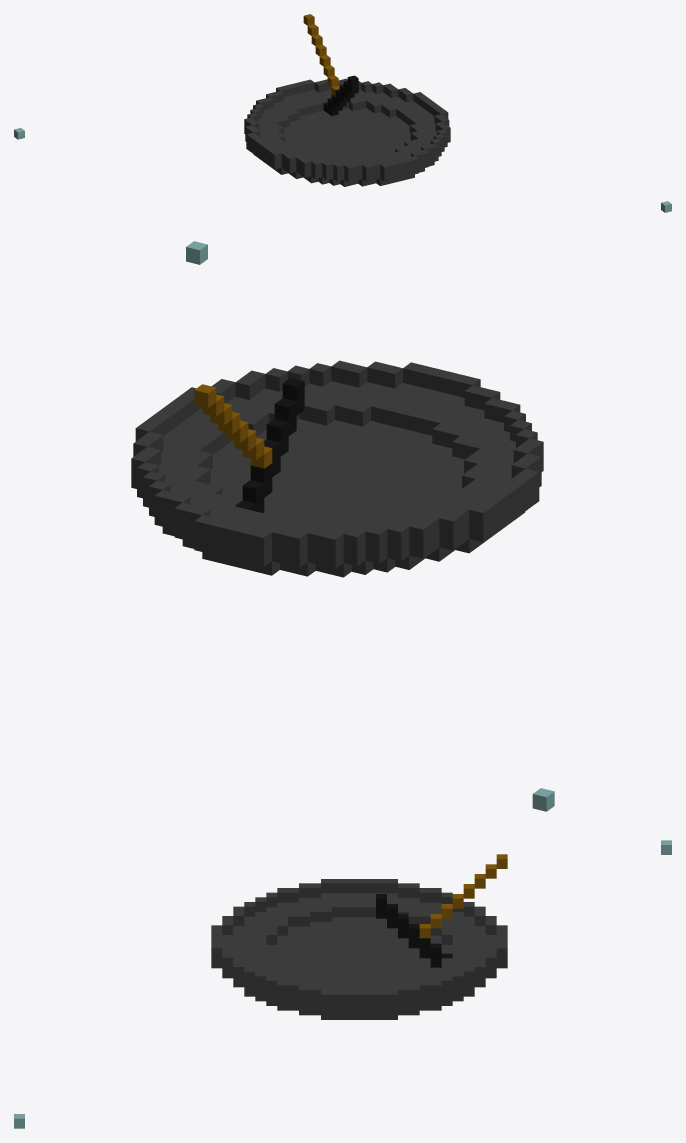
File: quarry.glb
The picture shows the model from 3 angles, top to bottom: view 1: azimuth 30°, elevation 25°; view 2: azimuth 150°, elevation 25°; view 3: azimuth 270°, elevation 25°; orthographic projection. The views are drawn at different scales.
Visible parts, largest first — view 1: quarry; view 2: quarry; view 3: quarry.
Part boxes in pixels (x1,y1,x2,y2): quarry: (14,14,671,212); quarry: (131,241,554,811); quarry: (14,840,671,1128).
Size of the model in its own units: 6 by 1.5 by 6.
